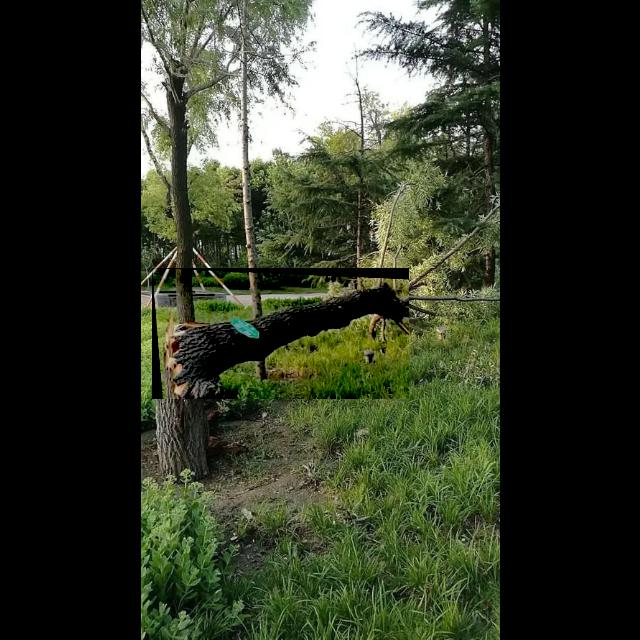Fallen Tree: (152, 268, 410, 400)
